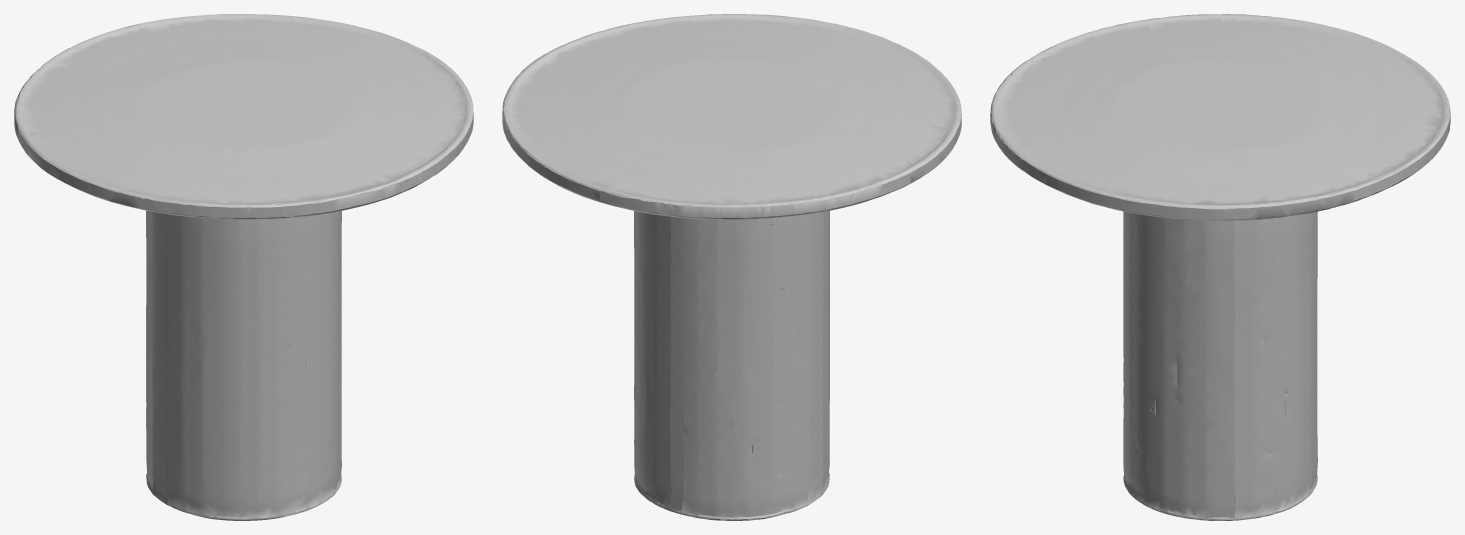
The model's file is item_059836fd.glb.
3 renders of one model, left to right at view 1: azimuth 30°, elevation 25°; view 2: azimuth 150°, elevation 25°; view 3: azimuth 270°, elevation 25°, orthographic.
Parts seen in each view (by area): view 1: world; view 2: world; view 3: world.
Part boxes in pixels (bbox=[...]): world: bbox=[14, 14, 473, 520]; world: bbox=[502, 14, 961, 520]; world: bbox=[990, 14, 1450, 520].
Bounding box in the file's own units: 0.8 × 0.7185 × 0.7995.
1 material, 1 textured.
